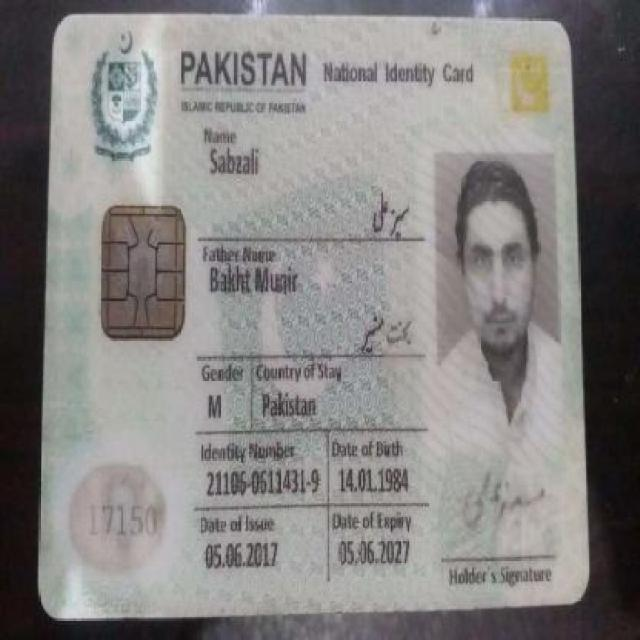Front: (37, 9, 598, 611)
